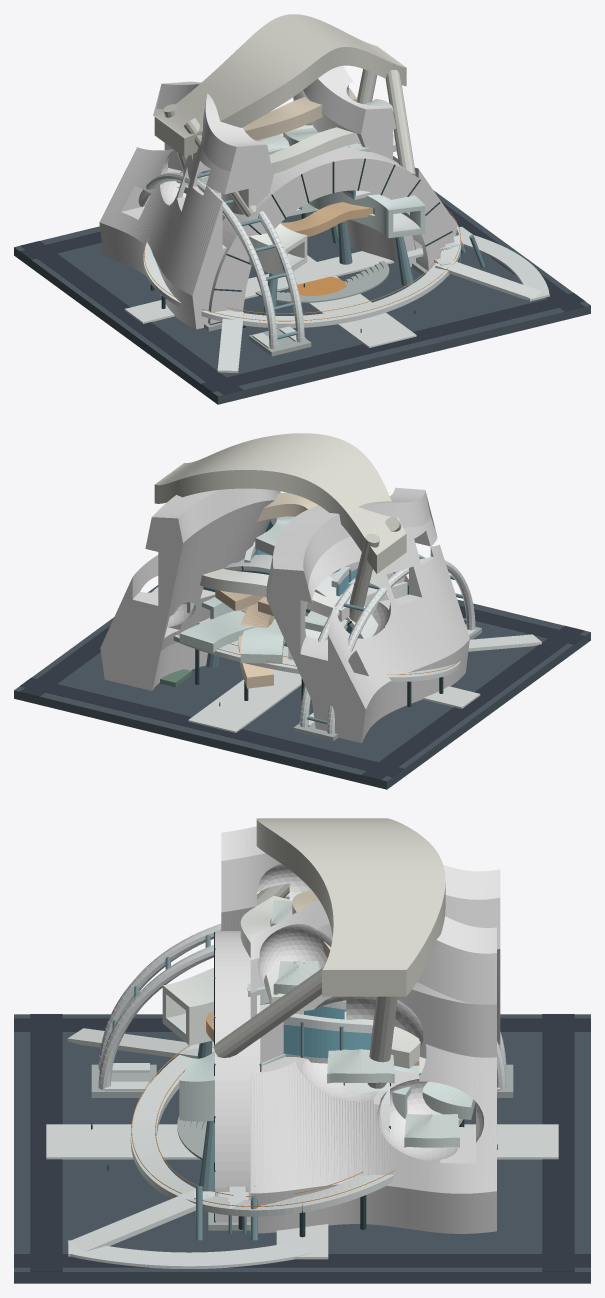
File: a13_a_unified_megafold.glb
3 views of the same model, one above another, from view 1: azimuth 30°, elevation 25°; view 2: azimuth 150°, elevation 25°; view 3: azimuth 270°, elevation 25° (orthographic). The views are drawn at different scales.
Visible parts, largest first — view 1: District base, A11_WEST_FAULT_ESCARPMENT_REAL_VOID, A13_UNIFIED_FOLDED_CIVIC_SKY, SOUTH continuous glazed occupied band_A9_FLARED, A11_EAST_SKY_FOLD_REAL_VOID, Continuous elliptical public promenade, E-W road, SOUTH outer load shell_A7_PORTAL_A9_FLARED, N-S road, Public ground, continuous E-W axis, A10_EAST_INHABITED_TIDAL_SHELL, Public ground, continuous N-S axis (+18 smaller); view 2: A11_WEST_FAULT_ESCARPMENT_REAL_VOID, District base, A11_EAST_SKY_FOLD_REAL_VOID, A13_UNIFIED_FOLDED_CIVIC_SKY, E-W road.001, N-S road, Public ground, continuous N-S axis, A11_LOW_FAULT_SKY_BOULEVARD, A11_EAST_OCCUPIED_STRATUM_0, A11_WEST_OCCUPIED_STRATUM_0, Continuous elliptical public promenade, E-W road (+11 smaller); view 3: A11_EAST_SKY_FOLD_REAL_VOID, District base, A13_UNIFIED_FOLDED_CIVIC_SKY, SOUTH outer load shell_A7_PORTAL_A9_FLARED, A11_WEST_FAULT_ESCARPMENT_REAL_VOID, E-W road, E-W road.001, Continuous elliptical public promenade, Public ground, continuous N-S axis, N-S road.001, A7_APPROACH_CURVED_DECK, A10_EAST_INHABITED_TIDAL_SHELL (+18 smaller).
Boxes of the visible parts, x1,y1,x2,y2 form: District base: (14,190,590,404); A11_WEST_FAULT_ESCARPMENT_REAL_VOID: (99,81,273,329); A13_UNIFIED_FOLDED_CIVIC_SKY: (154,14,406,156); SOUTH continuous glazed occupied band_A9_FLARED: (214,163,450,322); A11_EAST_SKY_FOLD_REAL_VOID: (292,65,457,266); Continuous elliptical public promenade: (143,214,461,328); E-W road: (201,292,584,392); SOUTH outer load shell_A7_PORTAL_A9_FLARED: (208,147,454,324); N-S road: (20,241,243,394); Public ground, continuous E-W axis: (124,226,472,323); A10_EAST_INHABITED_TIDAL_SHELL: (308,191,425,238); Public ground, continuous N-S axis: (264,255,416,347); A11_WEST_FAULT_ESCARPMENT_REAL_VOID: (266,487,469,743); District base: (14,585,590,789); A11_EAST_SKY_FOLD_REAL_VOID: (100,488,280,690); A13_UNIFIED_FOLDED_CIVIC_SKY: (154,433,406,573); E-W road.001: (20,677,403,777); N-S road: (361,625,584,779); Public ground, continuous N-S axis: (188,669,301,732); A11_LOW_FAULT_SKY_BOULEVARD: (200,568,349,621); A11_EAST_OCCUPIED_STRATUM_0: (179,610,255,652); A11_WEST_OCCUPIED_STRATUM_0: (240,619,285,663); Continuous elliptical public promenade: (173,634,460,681); E-W road: (459,605,584,644); A11_EAST_SKY_FOLD_REAL_VOID: (250,899,496,1233); District base: (14,1014,590,1283); A13_UNIFIED_FOLDED_CIVIC_SKY: (256,818,445,996); SOUTH outer load shell_A7_PORTAL_A9_FLARED: (215,931,260,1222); A11_WEST_FAULT_ESCARPMENT_REAL_VOID: (221,826,500,1048); E-W road: (30,1014,62,1271); E-W road.001: (542,1014,574,1271); Continuous elliptical public promenade: (130,1041,463,1216); Public ground, continuous N-S axis: (46,1124,558,1159); N-S road.001: (14,1254,590,1267); A7_APPROACH_CURVED_DECK: (68,1240,311,1268); A10_EAST_INHABITED_TIDAL_SHELL: (179,1052,419,1121).
Size of the model in its own units: 188 by 110 by 178.
